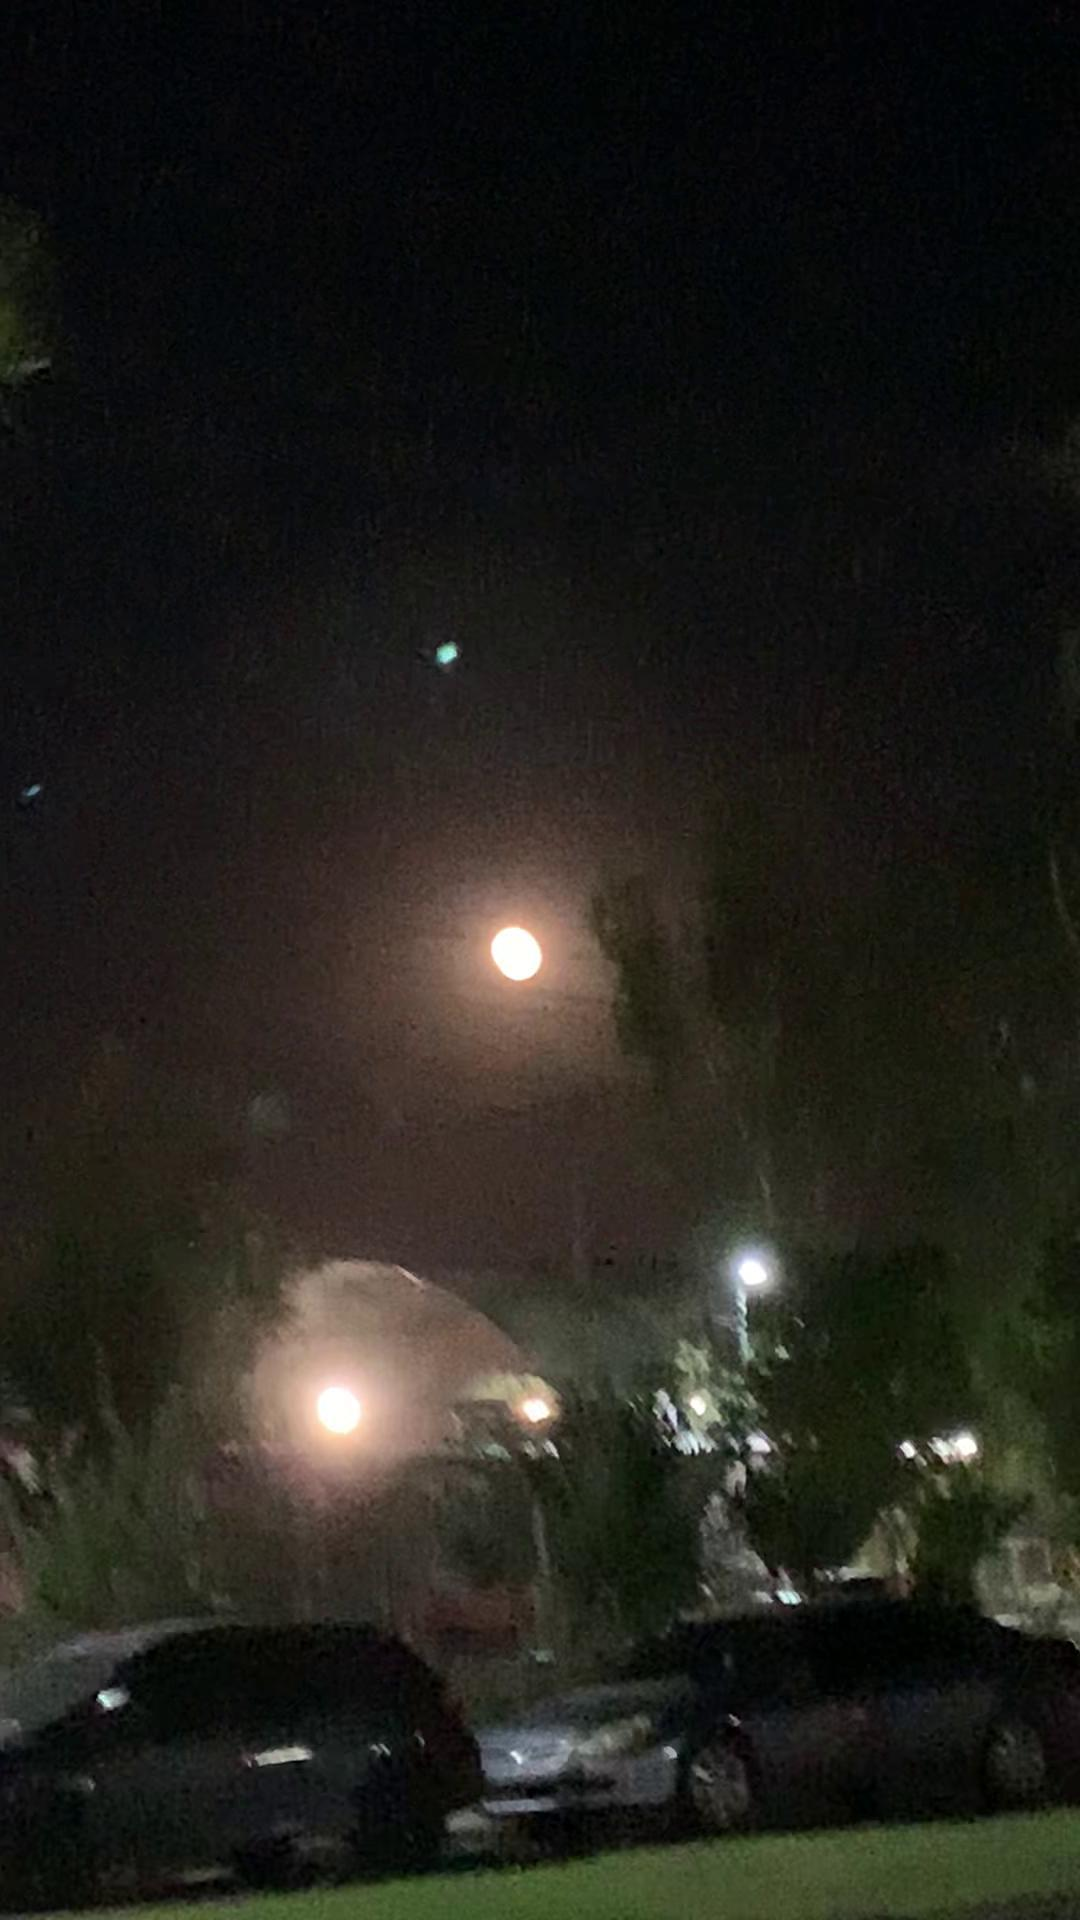moon: (487, 893, 576, 968)
